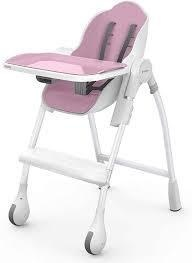obstacle: (4, 1, 181, 254)
